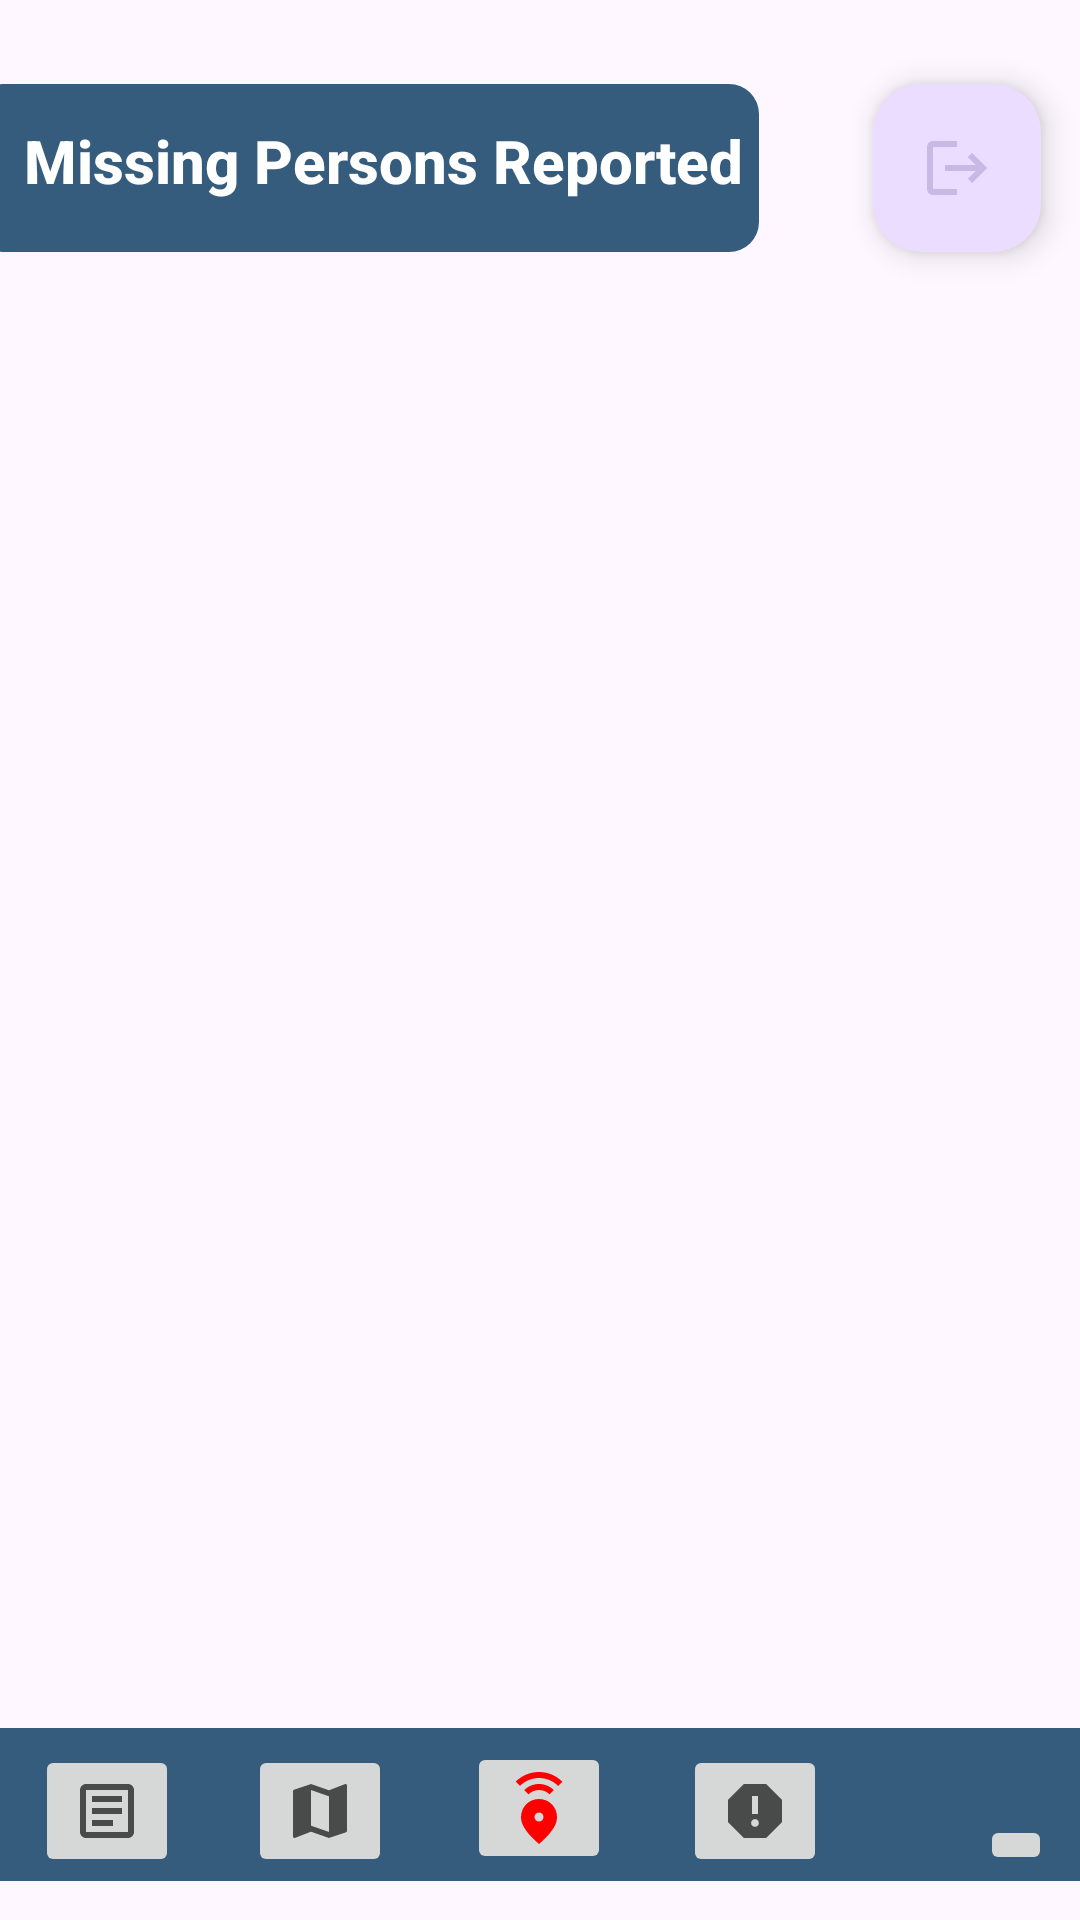

Screen size 1080 × 1920. Icon name, then its center in pixels as point (x, y):
article: point (107, 1811)
emergency share: point (539, 1808)
map: point (320, 1811)
report: point (755, 1811)
